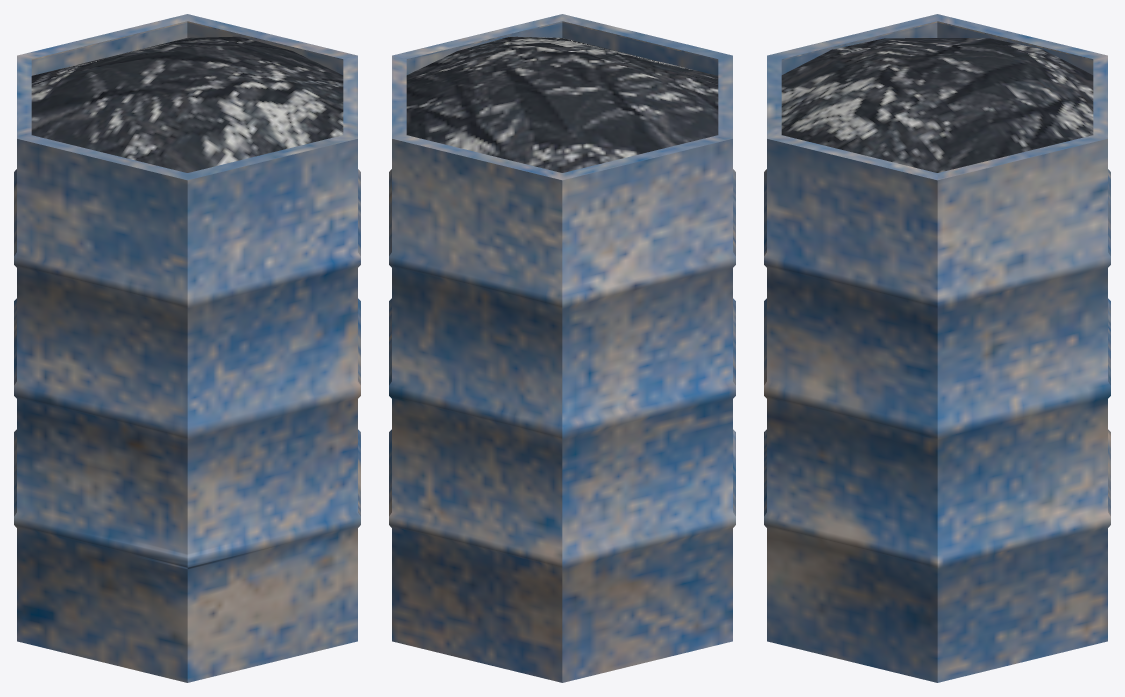
File: Barrel.fbx
3 renders of one model, left to right at view 1: azimuth 30°, elevation 25°; view 2: azimuth 150°, elevation 25°; view 3: azimuth 270°, elevation 25°, orthographic.
Parts seen in each view (by area): view 1: Cylinder001; view 2: Cylinder001; view 3: Cylinder001.
Boxes of the visible parts, x1,y1,x2,y2 form: Cylinder001: [14, 14, 360, 682]; Cylinder001: [389, 14, 735, 682]; Cylinder001: [764, 14, 1110, 682].
Bounding box in the file's own units: 75.81 × 110 × 65.65.
1 material, 1 textured.
